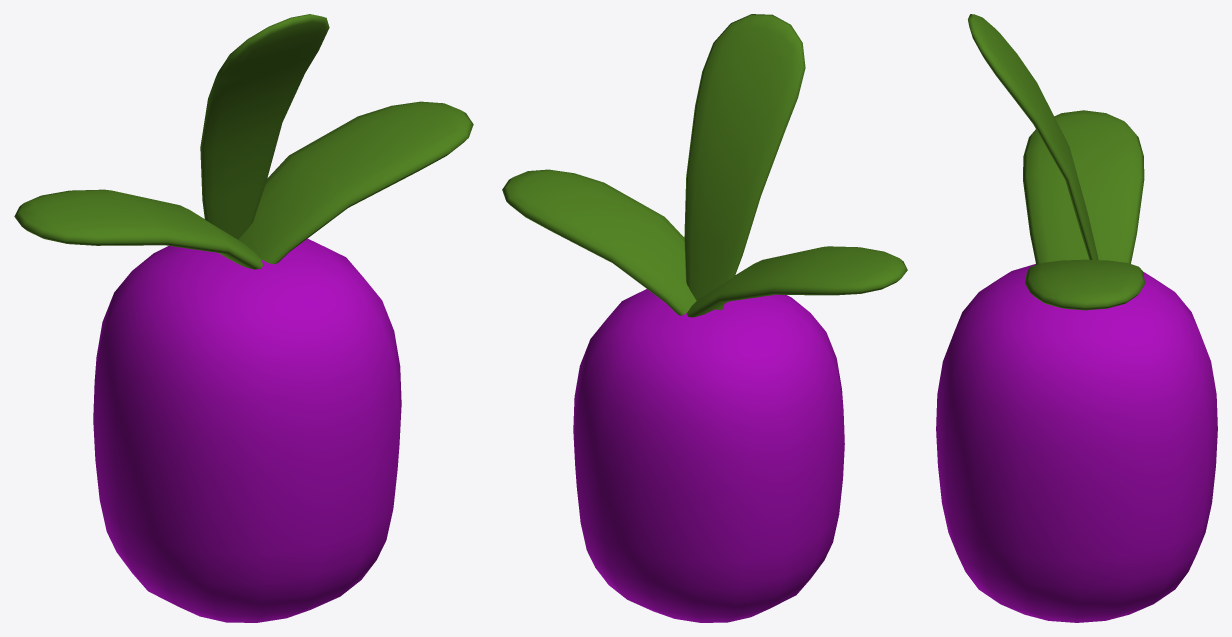
Rendered from prop29.fbx.
3 renders of one model, left to right at view 1: azimuth 30°, elevation 25°; view 2: azimuth 150°, elevation 25°; view 3: azimuth 270°, elevation 25°, orthographic. The views are drawn at different scales.
Parts seen in each view (by area): view 1: Cube.082; view 2: Cube.082; view 3: Cube.082.
Boxes of the visible parts, <box> form: Cube.082: <box>14,14,473,622</box>; Cube.082: <box>502,14,907,622</box>; Cube.082: <box>936,14,1217,622</box>.
Size of the model in its own units: 0.8661 by 0.5169 by 1.19.
